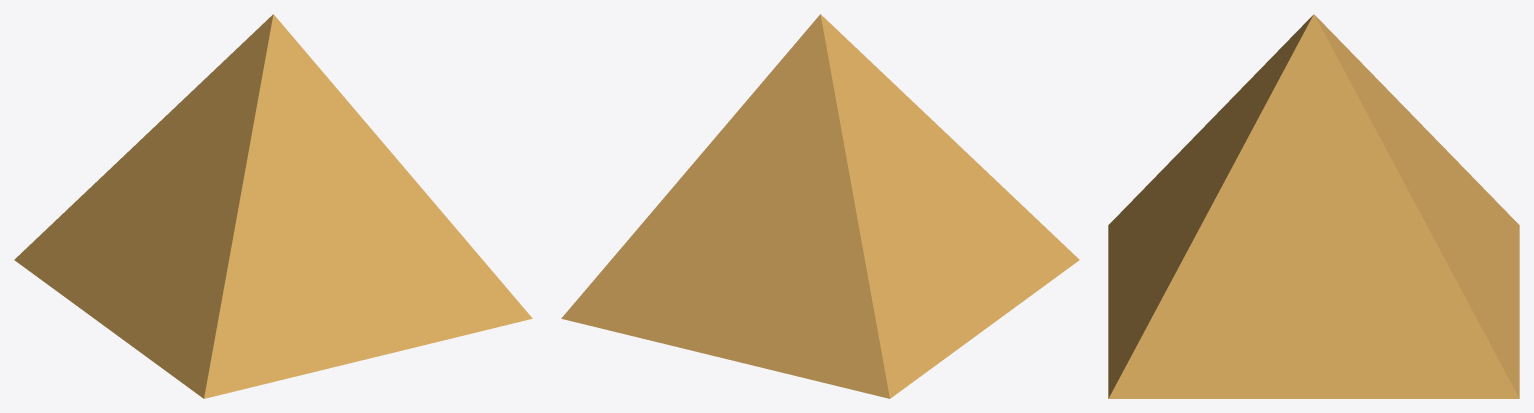
3 views of the same model, side by side, from view 1: azimuth 30°, elevation 25°; view 2: azimuth 150°, elevation 25°; view 3: azimuth 270°, elevation 25° (orthographic). The views are drawn at different scales.
Visible parts, largest first — view 1: pyramid; view 2: pyramid; view 3: pyramid.
Boxes of the visible parts, x1,y1,x2,y2 form: pyramid: (14,14,532,398); pyramid: (561,14,1079,398); pyramid: (1108,14,1519,398).
Bounding box in the file's own units: 1 × 0.8 × 1.
